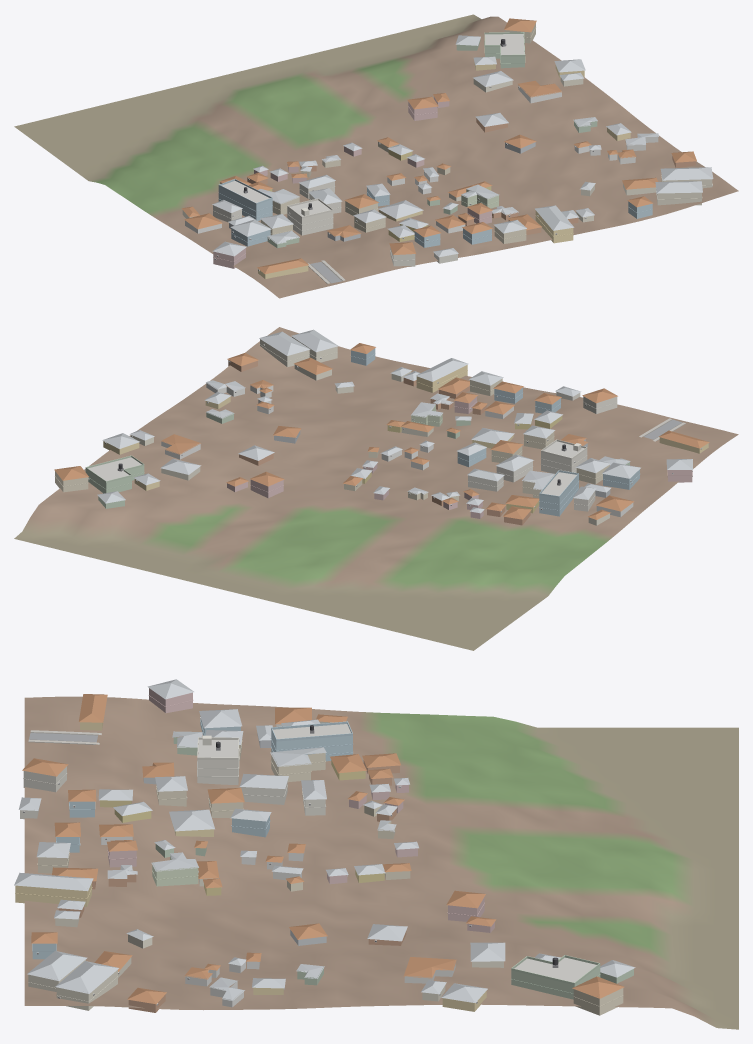
3 renders of one model, top to bottom at view 1: azimuth 30°, elevation 25°; view 2: azimuth 150°, elevation 25°; view 3: azimuth 270°, elevation 25°, orthographic. The views are drawn at different scales.
Parts seen in each view (by area): view 1: Terrain-col, Buildings-col, Details; view 2: Terrain-col, Buildings-col, Details; view 3: Terrain-col, Buildings-col, Details.
Part boxes in pixels (x1,y1,x2,y2): Terrain-col: (14, 14, 738, 298); Buildings-col: (181, 18, 713, 279); Details: (213, 27, 712, 271); Terrain-col: (14, 327, 738, 650); Buildings-col: (54, 329, 709, 525); Details: (55, 344, 702, 512); Terrain-col: (24, 696, 738, 1029); Buildings-col: (14, 679, 635, 1015); Details: (15, 695, 623, 1006).
Size of the model in its own units: 268 by 21.02 by 260.
